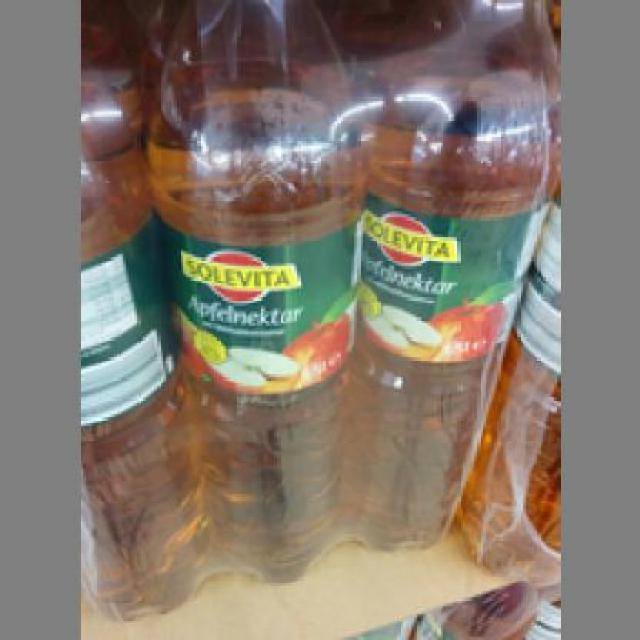Juice: (140, 0, 354, 583), (350, 0, 558, 552)
